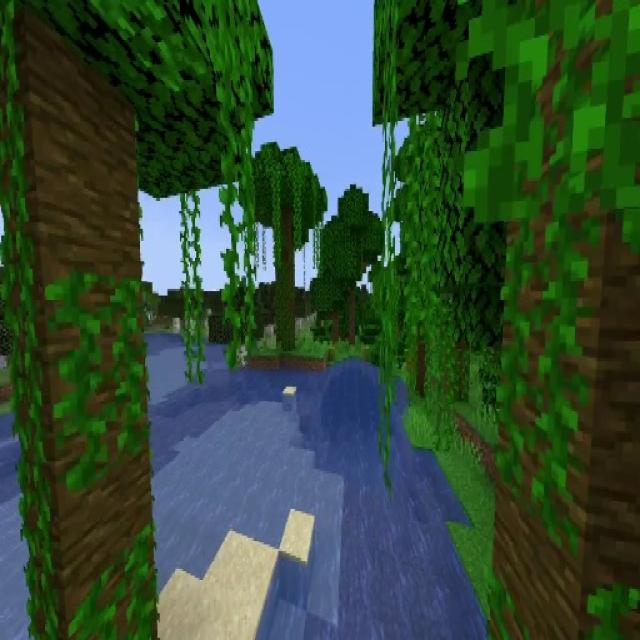jungle: (248, 143, 328, 353)
jungle_log: (0, 14, 158, 638), (484, 10, 640, 640), (274, 214, 296, 348)
